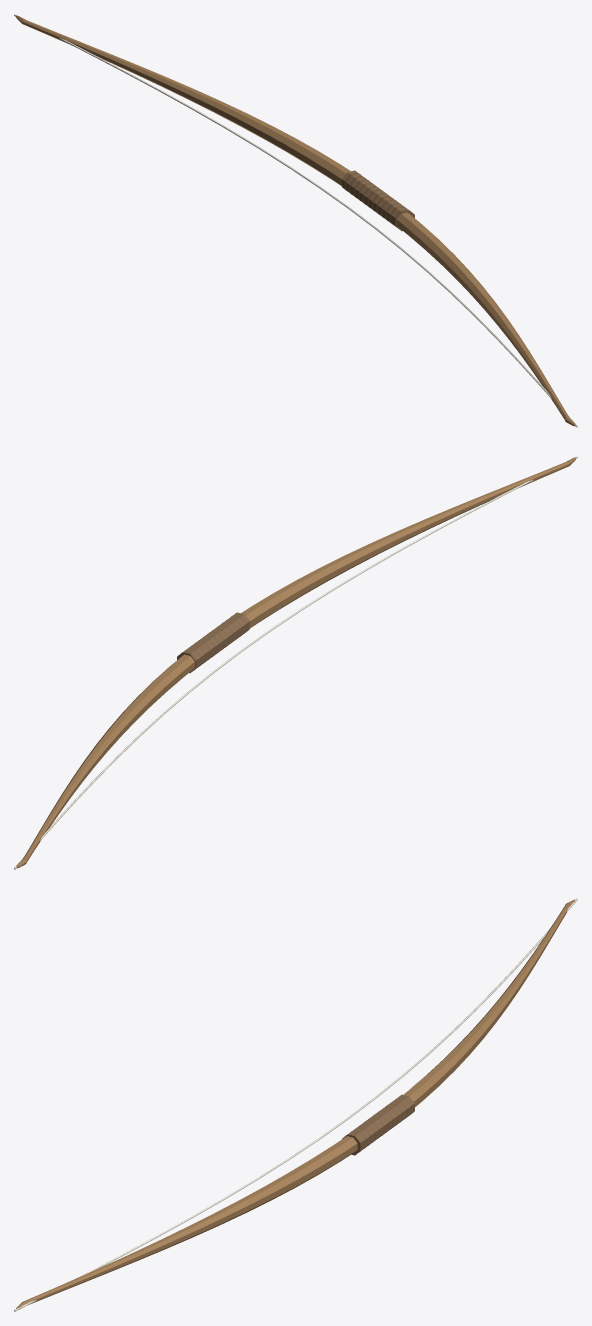
Rendered from bow.glb.
3 views of the same model, one above another, from view 1: azimuth 30°, elevation 25°; view 2: azimuth 150°, elevation 25°; view 3: azimuth 330°, elevation 25° (orthographic).
Parts seen in each view (by area): view 1: Bow, BowString; view 2: Bow, BowString; view 3: Bow, BowString.
Boxes of the visible parts, x1,y1,x2,y2 form: Bow: [15, 15, 575, 426]; BowString: [14, 14, 577, 427]; Bow: [16, 457, 576, 868]; BowString: [14, 456, 577, 869]; Bow: [16, 899, 575, 1309]; BowString: [14, 898, 577, 1311].
Size of the model in its own units: 0.3195 by 0.0628 by 3.31.
